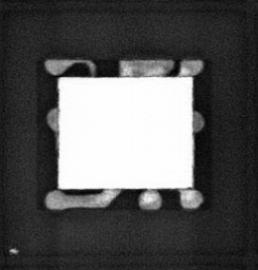DIE_INK: (9, 246, 19, 256)
